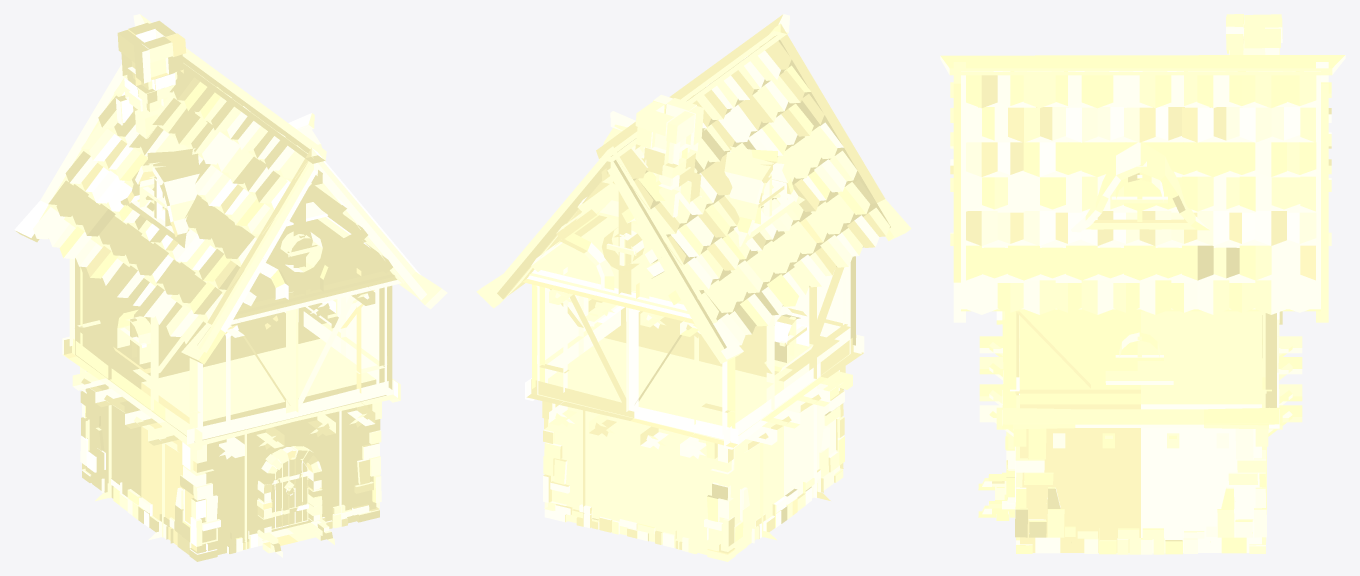
The model's file is house.glb.
3 renders of one model, left to right at view 1: azimuth 30°, elevation 25°; view 2: azimuth 150°, elevation 25°; view 3: azimuth 270°, elevation 25°, orthographic. The views are drawn at different scales.
Visible parts, largest first — view 1: House_1; view 2: House_1; view 3: House_1.
Part boxes in pixels (left/top/right/bottom): House_1: left=14, top=14, right=447, bottom=561; House_1: left=476, top=14, right=911, bottom=561; House_1: left=940, top=14, right=1345, bottom=554.
Size of the model in its own units: 214 by 339 by 266.
